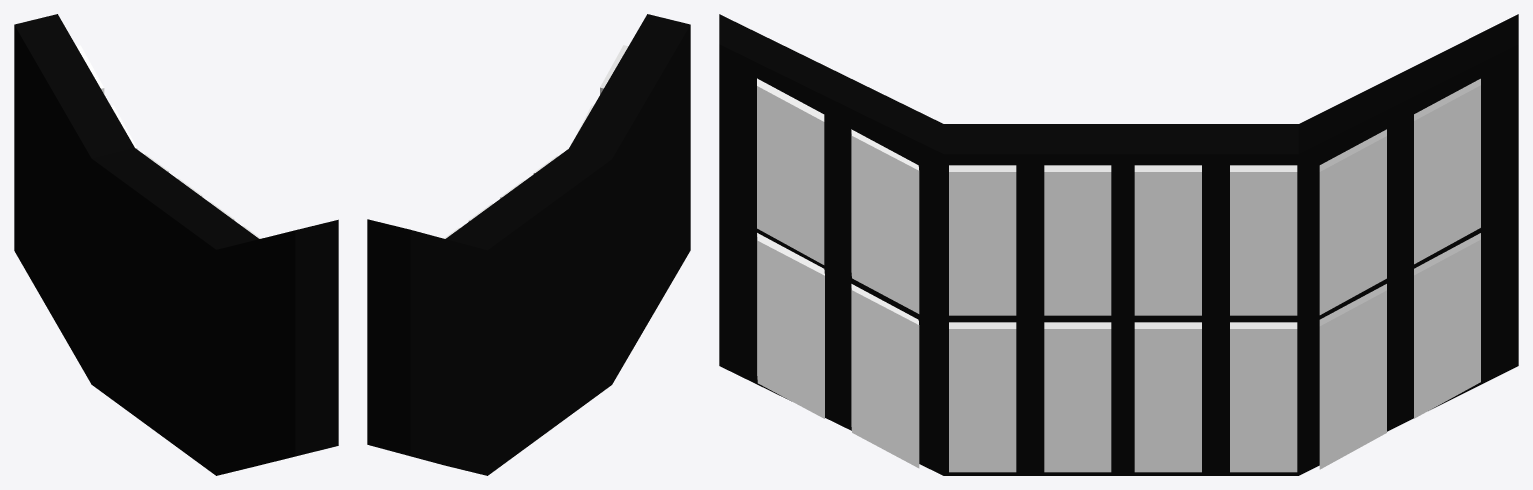
Rendered from shrill_smile.fbx.
The picture shows the model from 3 angles, left to right: view 1: azimuth 30°, elevation 25°; view 2: azimuth 150°, elevation 25°; view 3: azimuth 270°, elevation 25°; orthographic projection. The views are drawn at different scales.
Parts seen in each view (by area): view 1: Cube; view 2: Cube; view 3: Cube.
Boxes of the visible parts, x1=… form: Cube: x1=14, y1=14, x2=338, y2=475; Cube: x1=367, y1=14, x2=690, y2=475; Cube: x1=719, y1=14, x2=1518, y2=475.
Bounding box in the file's own units: 29.41 × 155 × 260.
